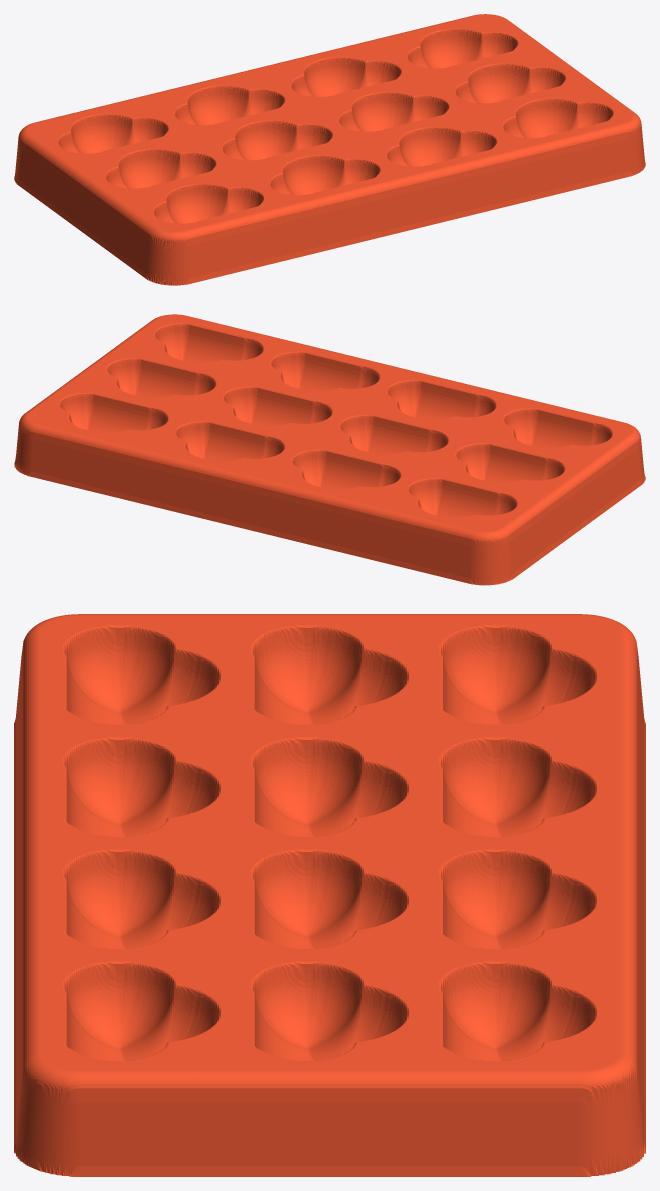
File: mold.glb
The picture shows the model from 3 angles, top to bottom: view 1: azimuth 30°, elevation 25°; view 2: azimuth 150°, elevation 25°; view 3: azimuth 270°, elevation 25°; orthographic projection. The views are drawn at different scales.
Parts seen in each view (by area): view 1: geometry_0; view 2: geometry_0; view 3: geometry_0.
Part boxes in pixels (x1=…): geometry_0: x1=14, y1=14, x2=645, y2=285; geometry_0: x1=14, y1=314, x2=645, y2=585; geometry_0: x1=14, y1=614, x2=645, y2=1176.
Bounding box in the file's own units: 0.1558 × 0.0145 × 0.0873.
